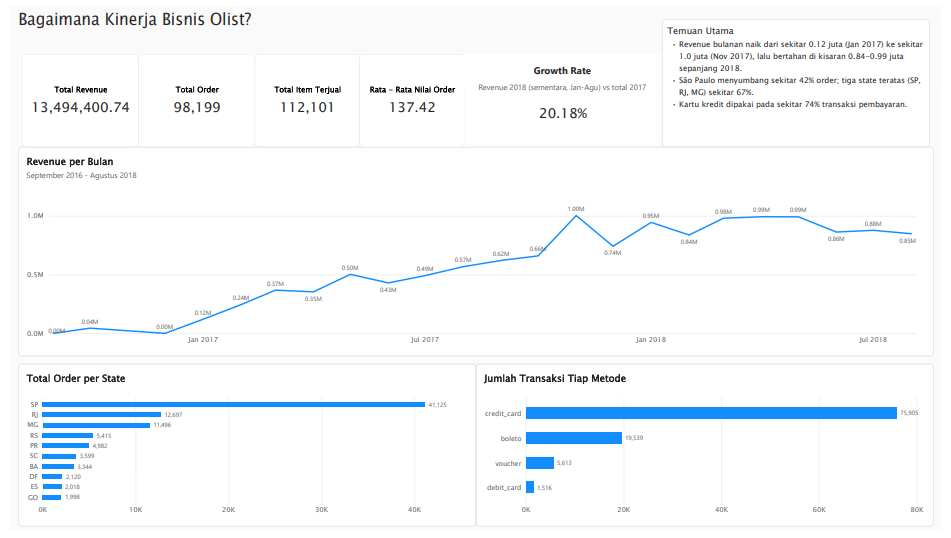

The page's visual inventory and layout, read from the dashboard file:
{"tool":"powerbi","page":{"name":"Kinerja Bisnis","canvas":[1920,1080],"ordinal":0},"visuals":[{"type":"textbox","box":[16,0,496,80],"z":0},{"type":"cardVisual","fields":{"Data":["Sum(KPI.total_revenue)"]},"box":[24,96,240,192],"z":1000},{"type":"cardVisual","fields":{"Data":["Sum(KPI.total_order)"]},"box":[264,96,240,192],"z":2000},{"type":"cardVisual","fields":{"Data":["Sum(KPI.total_item)"]},"box":[504,96,216,192],"z":3000},{"type":"lineChart","title":"Revenue per Bulan","fields":{"Category":["Revenue Bulanan.Bulan"],"Y":["Sum(Revenue Bulanan.Revenue)"]},"box":[16,288,1888,432],"z":4000},{"type":"barChart","title":"Total Order per State","fields":{"Category":["Order per State.State"],"Y":["Sum(Order per State.Total Terjual)"]},"box":[16,736,944,336],"z":5000},{"type":"barChart","title":"Jumlah Transaksi Tiap Metode","fields":{"Category":["Metode Pembayaran.Tipe Pembayaran"],"Y":["Sum(Metode Pembayaran.Jumlah)"]},"box":[960,736,944,336],"z":6000},{"type":"cardVisual","fields":{"Data":["Sum(KPI.rata_nilai_order)"]},"box":[720,96,216,192],"z":7000},{"type":"cardVisual","title":"Growth Rate","fields":{"Data":["Growth Rate.Growth Persen"]},"box":[936,96,405,192],"z":8000},{"type":"textbox","box":[1344,24,552,264],"z":9000}]}

Visuals, with their boxes in screenshot pixels (x1, y1, x2, y2), scaled from the page's 1920x1080 canvas onto the 951x538 screenshot:
textbox: 8, 0, 254, 40
cardVisual - Sum(KPI.total_revenue): 12, 48, 131, 143
cardVisual - Sum(KPI.total_order): 131, 48, 250, 143
cardVisual - Sum(KPI.total_item): 250, 48, 357, 143
"Revenue per Bulan" lineChart: 8, 143, 943, 359
"Total Order per State" barChart: 8, 367, 476, 534
"Jumlah Transaksi Tiap Metode" barChart: 476, 367, 943, 534
cardVisual - Sum(KPI.rata_nilai_order): 357, 48, 464, 143
"Growth Rate" cardVisual: 464, 48, 664, 143
textbox: 666, 12, 939, 143
